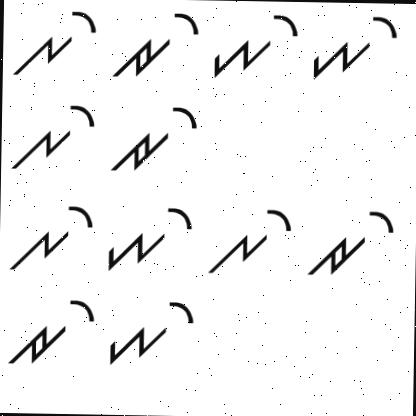lay: (8, 94, 98, 180), (6, 192, 98, 275), (204, 198, 294, 278), (10, 8, 98, 80)
ray: (302, 199, 396, 282), (6, 291, 100, 374), (112, 3, 202, 84), (110, 96, 200, 176)
yay: (307, 7, 403, 90), (107, 294, 202, 375), (104, 196, 194, 274), (211, 10, 299, 86)
